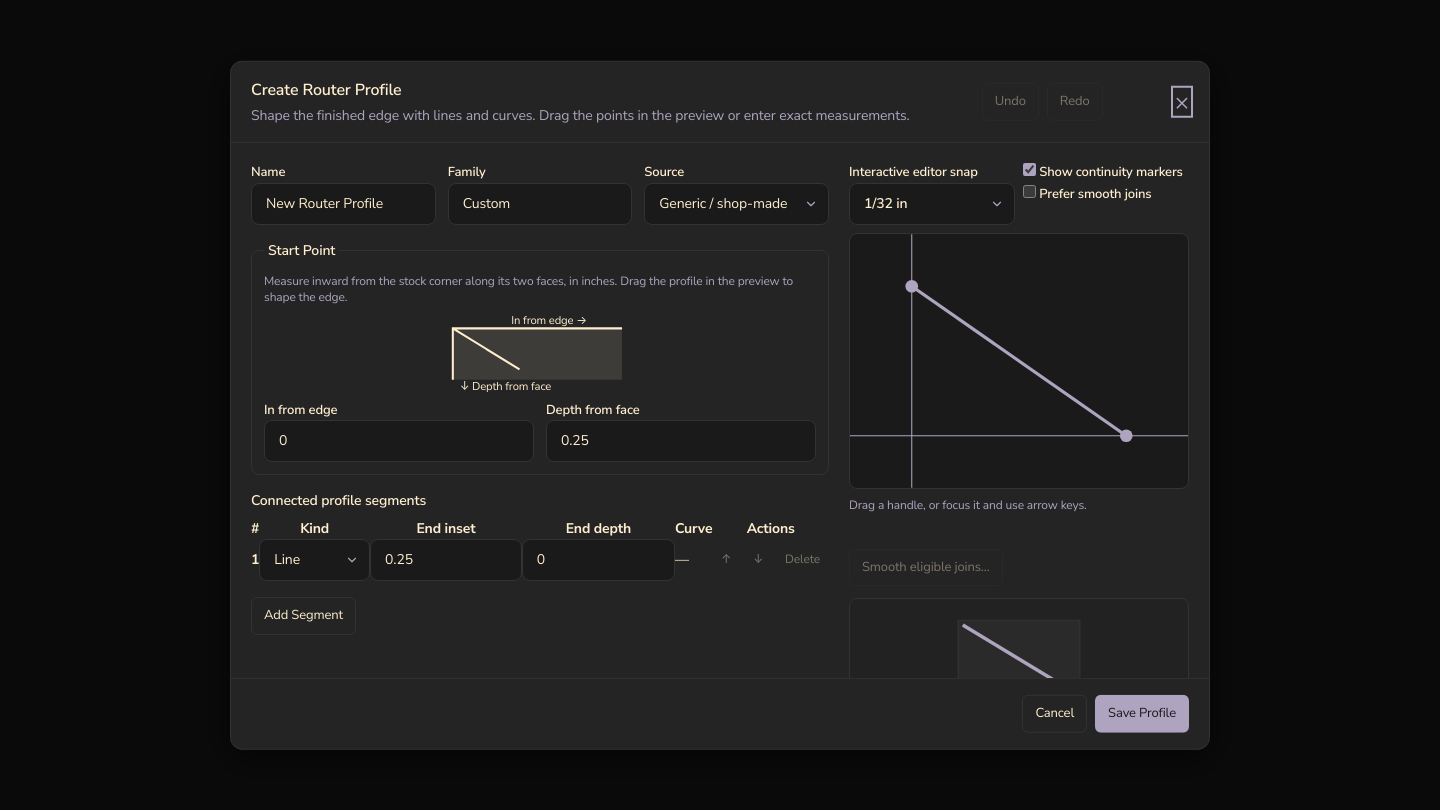
Test: RouterProfileDefinitionDialog › reports invalid geometry and prevents saving it
Select "Circular arc" in the dropdown named "Segment 1 kind" at (315, 560), box [259,539,370,581]
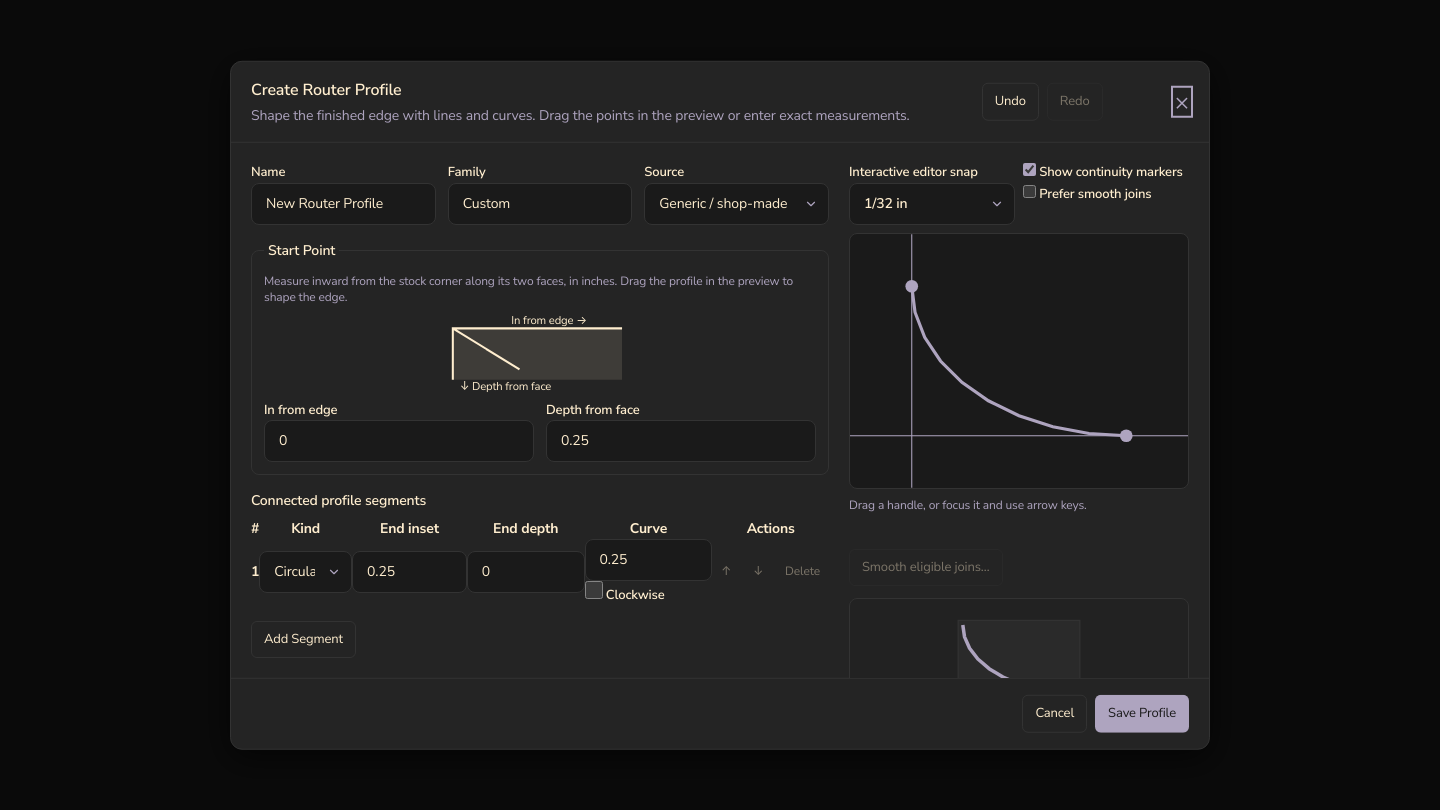
Replace the text in the number field named "Segment 1 radius" with "0" at (648, 560), box [584,539,712,581]
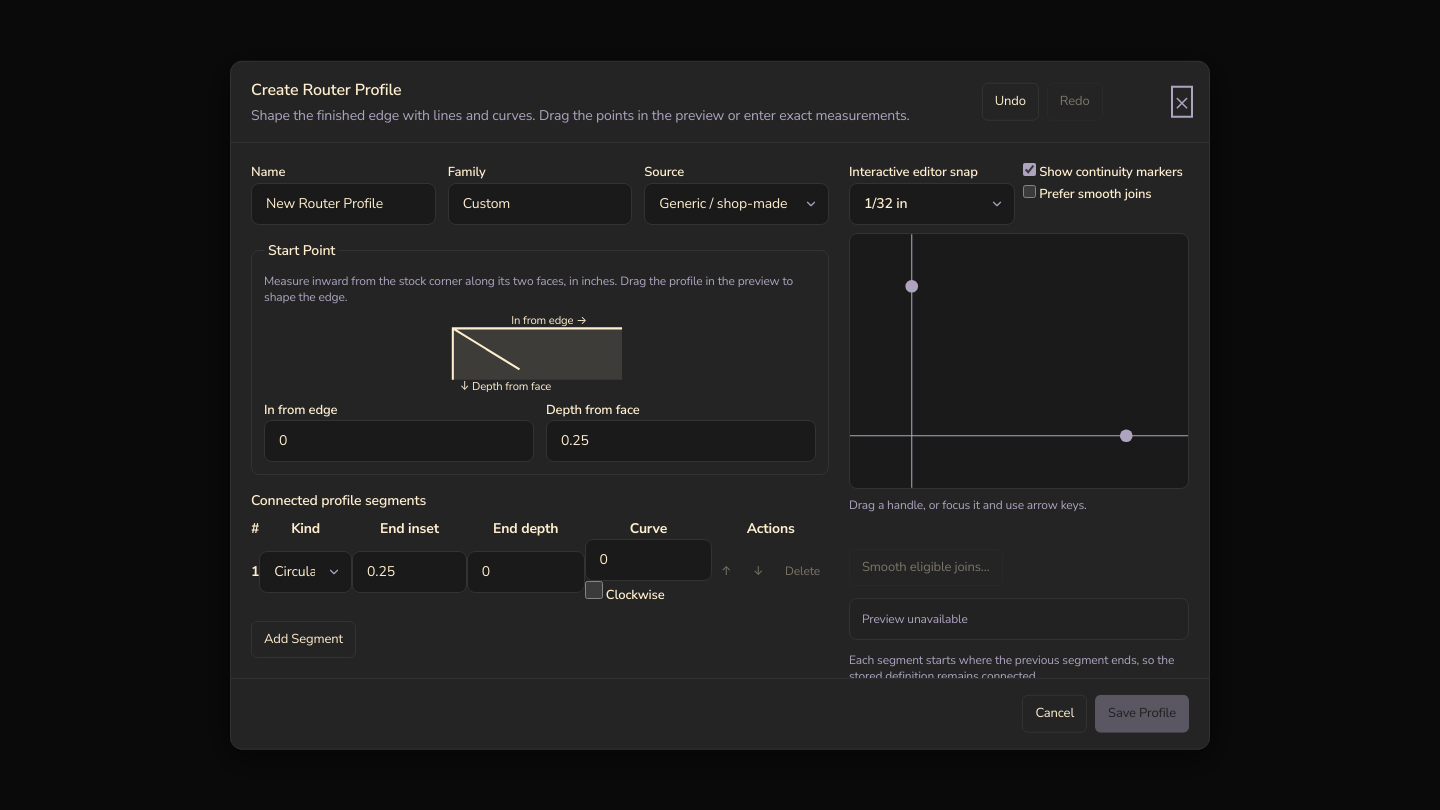
Expected: the button "Save Profile" is disabled, [1095,695,1189,732]
